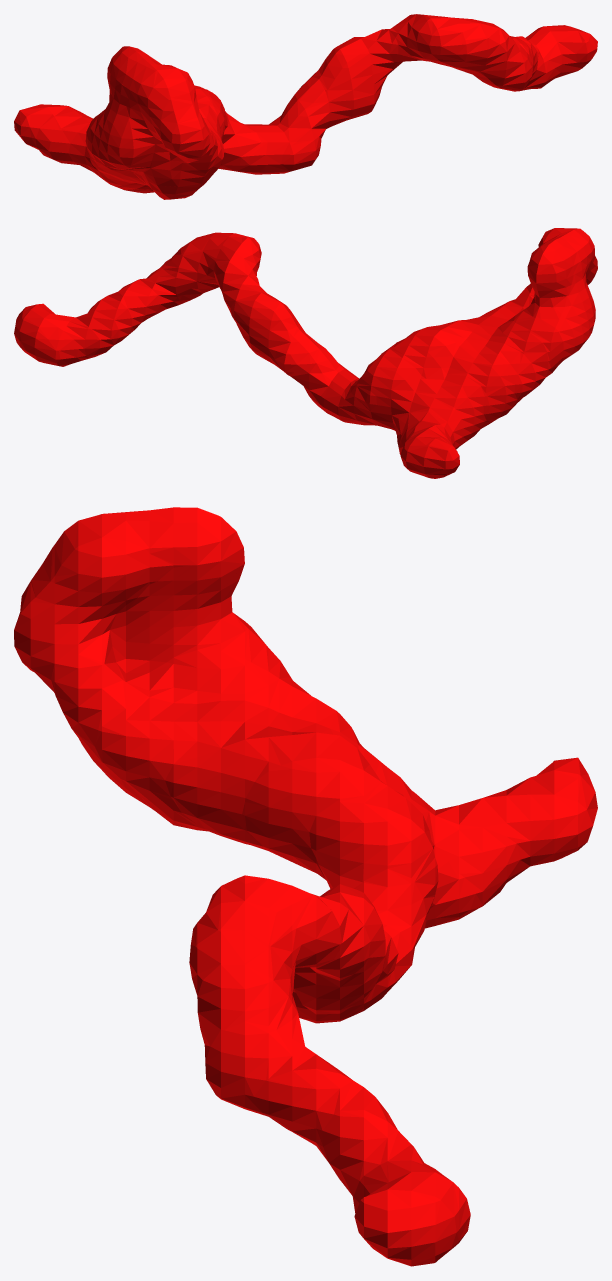
File: secG_coarse.dae
3 renders of one model, top to bottom at view 1: azimuth 30°, elevation 25°; view 2: azimuth 150°, elevation 25°; view 3: azimuth 270°, elevation 25°, orthographic. The views are drawn at different scales.
Parts seen in each view (by area): view 1: secG; view 2: secG; view 3: secG.
Boxes of the visible parts, x1,y1,x2,y2 form: secG: (14,14,597,199); secG: (14,228,597,478); secG: (14,507,597,1266).
Size of the model in its own units: 116 by 40.73 by 60.07.
